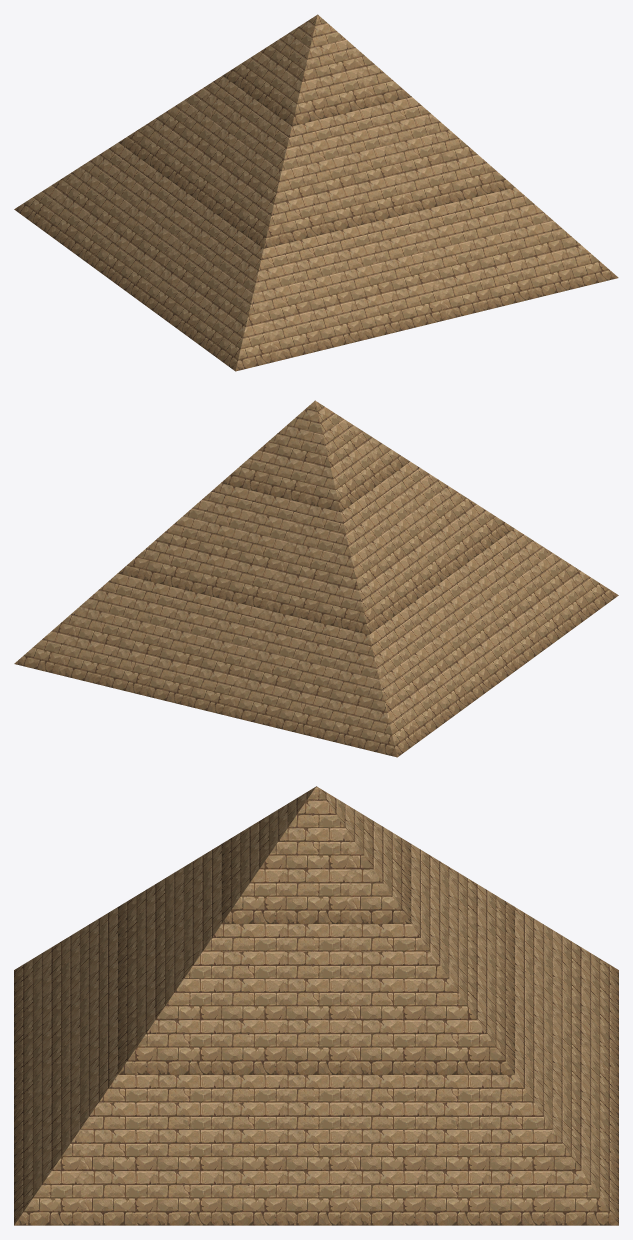
File: furni_0200953.FBX
3 views of the same model, one above another, from view 1: azimuth 30°, elevation 25°; view 2: azimuth 150°, elevation 25°; view 3: azimuth 270°, elevation 25° (orthographic). The views are drawn at different scales.
Visible parts, largest first — view 1: furni_0200953; view 2: furni_0200953; view 3: furni_0200953.
Boxes of the visible parts, x1,y1,x2,y2 form: furni_0200953: (14, 14, 618, 371); furni_0200953: (14, 400, 618, 757); furni_0200953: (14, 786, 618, 1225).
Size of the model in its own units: 1553 by 886 by 1554.
1 material, 1 textured.
